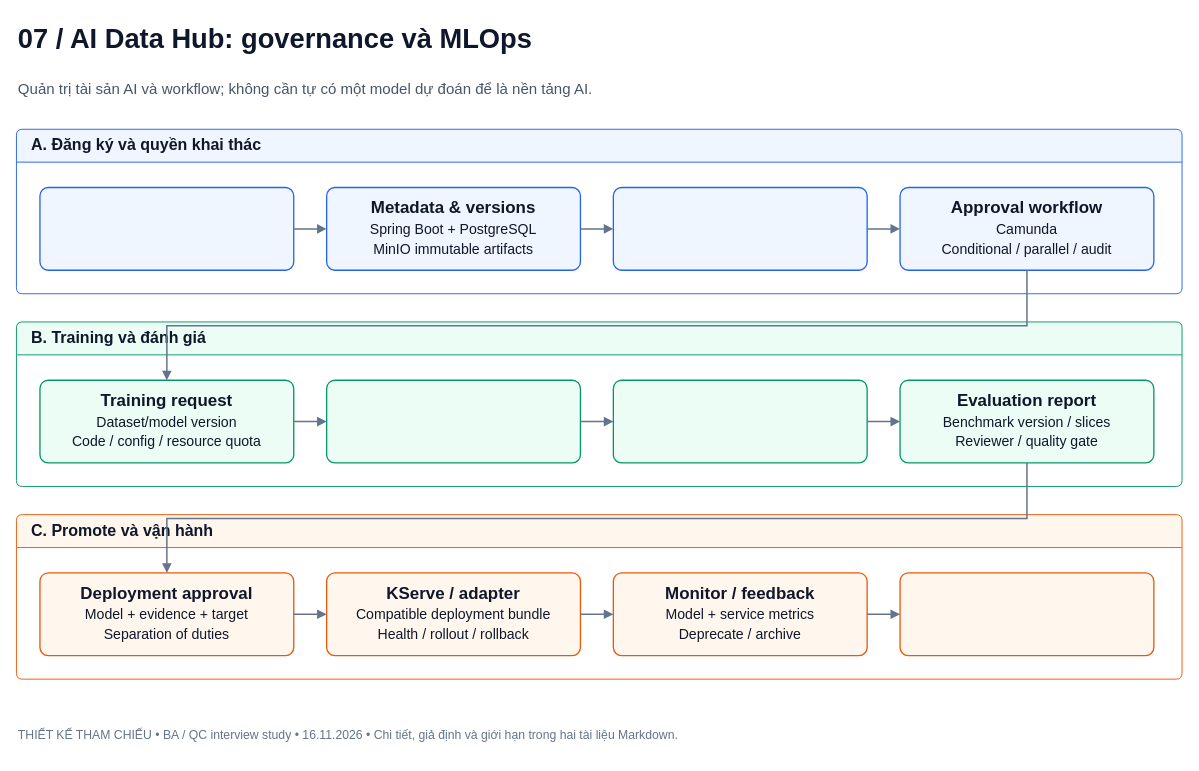
The diagram is 1199 pixels wide and 771 high, and some of its shapes have lost their labels. The shapes that lost their labels are listed below. From the top down, each one's centre as x and y in pixels, then its label:
At [166,228]: "Catalog / asset cards React • dataset / model Owner / license / sensitivity".
At [739,228]: "Permission & policy Keycloak + OPA Role / scope / lifecycle".
At [453,421]: "Training job Kubernetes Job / Argo Queued / running / terminal".
At [739,421]: "MLflow registry Run → model artifact Metric / version / alias".
At [1026,614]: "Lineage & audit Dataset → run → model Evaluation → deployment".
